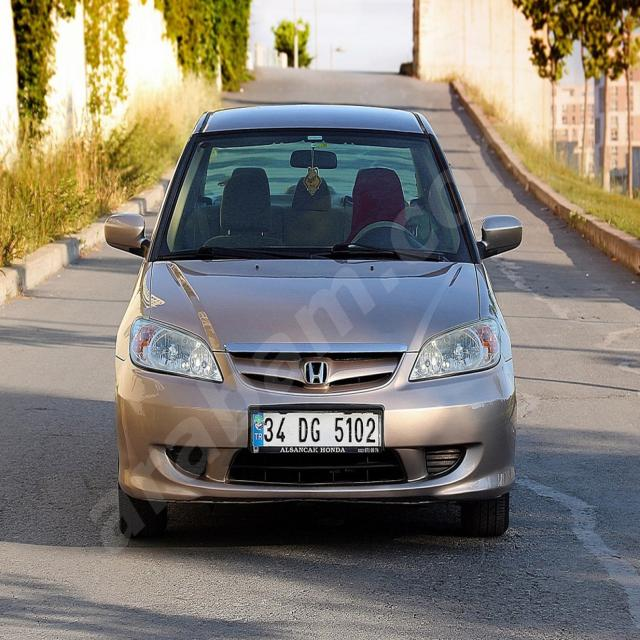license_plate: (252, 412, 380, 447)
